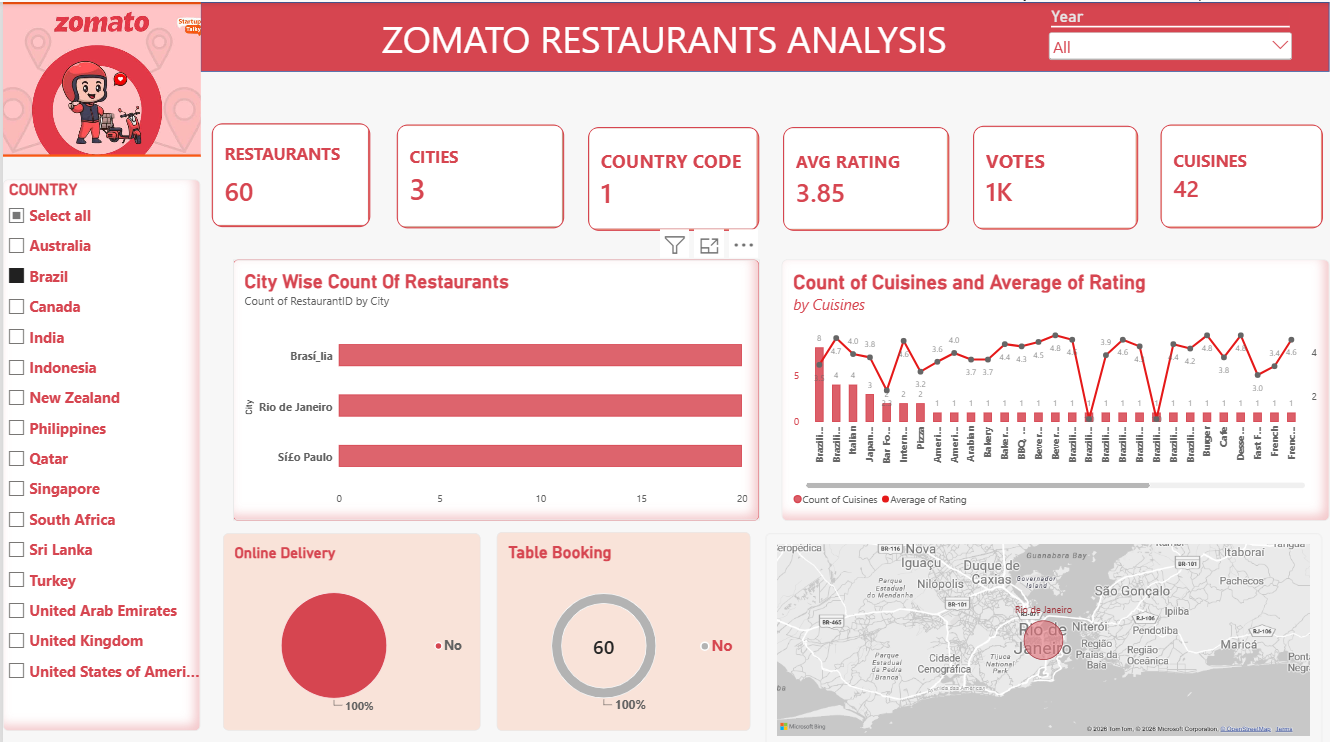

What the dashboard file says about the page in this screenshot:
{"tool":"powerbi","page":{"name":"Page 2","canvas":[1920,1080],"ordinal":0},"visuals":[{"type":"shape","box":[286.1,0,1634.3,100.9],"z":0},{"type":"textbox","box":[547.5,16.5,1307,308.7],"z":1000},{"type":"cardVisual","title":"Count of restaurant ID","fields":{"Data":["Count(restaurants.RestaurantID)"]},"box":[302.2,175.5,229.8,150.2],"z":2000},{"type":"cardVisual","title":"Count of restaurant ID","fields":{"Data":["Count(restaurants.City)"]},"box":[570,177.3,242.5,150.2],"z":3000},{"type":"cardVisual","title":"Count of restaurant ID","fields":{"Data":["Sum(restaurants.Votes)"]},"box":[1404.3,179.2,238.9,150.2],"z":4000},{"type":"cardVisual","title":"Count of restaurant ID","fields":{"Data":["Avg(restaurants.Rating)"]},"box":[1129.2,181,240.7,150.2],"z":5000},{"type":"cardVisual","title":"Count of restaurant ID","fields":{"Data":["Count(restaurants.CountryCode)"]},"box":[846.9,181,247.9,150.2],"z":6000},{"type":"cardVisual","title":"Count of restaurant ID","fields":{"Data":["Count(restaurants.Cuisines)"]},"box":[1675.7,177.3,235.3,150.2],"z":7000},{"type":"slicer","fields":{"Values":["countries.country name"]},"box":[0,251.5,285.9,760.1],"z":8000},{"type":"lineStackedColumnComboChart","fields":{"Category":["restaurants.Cuisines"],"Y":["CountNonNull(restaurants.Cuisines)"],"Y2":["Avg(restaurants.Rating)"]},"box":[1127.4,372.8,792.6,378.2],"z":9000},{"type":"clusteredBarChart","title":"City Wise Count Of Restaurants","fields":{"Category":["restaurants.City"],"Y":["CountNonNull(restaurants.RestaurantID)"]},"box":[333,372.8,761.9,378.2],"z":10000},{"type":"map","fields":{"Category":["restaurants.City"],"Size":["CountNonNull(restaurants.RestaurantID)"]},"box":[1103.9,769.1,805.3,311.3],"z":11000},{"type":"pieChart","title":"Online Delivery","fields":{"Category":["restaurants.Has_Online_delivery"],"Y":["CountNonNull(restaurants.RestaurantID)"]},"box":[318.5,769.1,372.8,285.9],"z":12000},{"type":"donutChart","title":"Table Booking","fields":{"Category":["restaurants.Has_Table_booking"],"Y":["CountNonNull(restaurants.RestaurantID)"]},"box":[714.8,767.3,367.4,287.7],"z":13000},{"type":"slicer","fields":{"Values":["restaurants.Datekey_Opening.Variation.Date Hierarchy.Year"]},"box":[1509.3,7.2,361.9,85.1],"z":14000},{"type":"image","box":[0,0,286.1,224.4],"z":14005}]}

Visuals, with their boxes in screenshot pixels (x1, y1, x2, y2), scaled from the page's 1920x1080 canvas onto the 1330x742 screenshot:
shape: left=198, top=0, right=1329, bottom=69
textbox: left=379, top=11, right=1285, bottom=223
"Count of restaurant ID" cardVisual: left=209, top=121, right=369, bottom=224
"Count of restaurant ID" cardVisual: left=395, top=122, right=563, bottom=225
"Count of restaurant ID" cardVisual: left=973, top=123, right=1138, bottom=226
"Count of restaurant ID" cardVisual: left=782, top=124, right=949, bottom=228
"Count of restaurant ID" cardVisual: left=587, top=124, right=758, bottom=228
"Count of restaurant ID" cardVisual: left=1161, top=122, right=1324, bottom=225
slicer - countries.country name: left=0, top=173, right=198, bottom=695
lineStackedColumnComboChart - restaurants.Cuisines x CountNonNull(restaurants.Cuisines): left=781, top=256, right=1329, bottom=516
"City Wise Count Of Restaurants" clusteredBarChart: left=231, top=256, right=758, bottom=516
map - restaurants.City x CountNonNull(restaurants.RestaurantID): left=765, top=528, right=1323, bottom=741
"Online Delivery" pieChart: left=221, top=528, right=479, bottom=725
"Table Booking" donutChart: left=495, top=527, right=750, bottom=725
slicer - restaurants.Datekey_Opening.Variation.Date Hierarchy.Year: left=1046, top=5, right=1296, bottom=63
image: left=0, top=0, right=198, bottom=154
